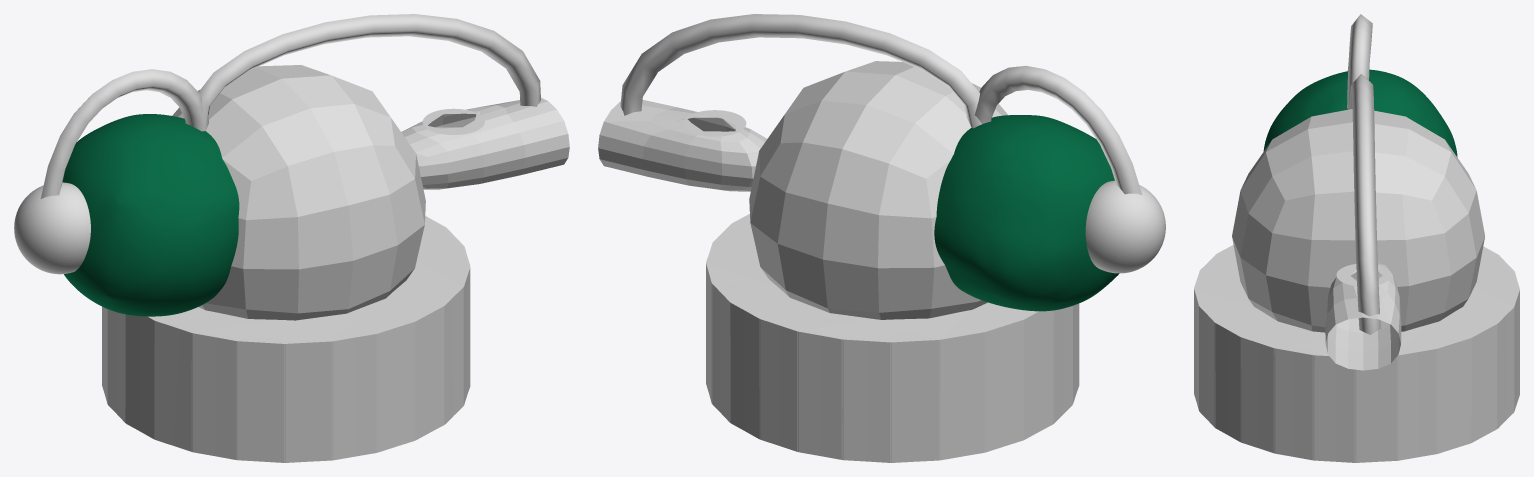
Rendered from FlameThrower.fbx.
The picture shows the model from 3 angles, left to right: view 1: azimuth 30°, elevation 25°; view 2: azimuth 150°, elevation 25°; view 3: azimuth 270°, elevation 25°; orthographic projection. The views are drawn at different scales.
Parts seen in each view (by area): view 1: BezierCurve.003, Cube; view 2: BezierCurve.003, Cube; view 3: BezierCurve.003, Cube.
Part boxes in pixels (x1,y1,x2,y2): BezierCurve.003: [14, 14, 569, 320]; Cube: [102, 216, 470, 462]; BezierCurve.003: [598, 14, 1165, 319]; Cube: [706, 214, 1079, 462]; BezierCurve.003: [1232, 14, 1484, 370]; Cube: [1194, 245, 1519, 462].
Bounding box in the file's own units: 376 × 237 × 226.
